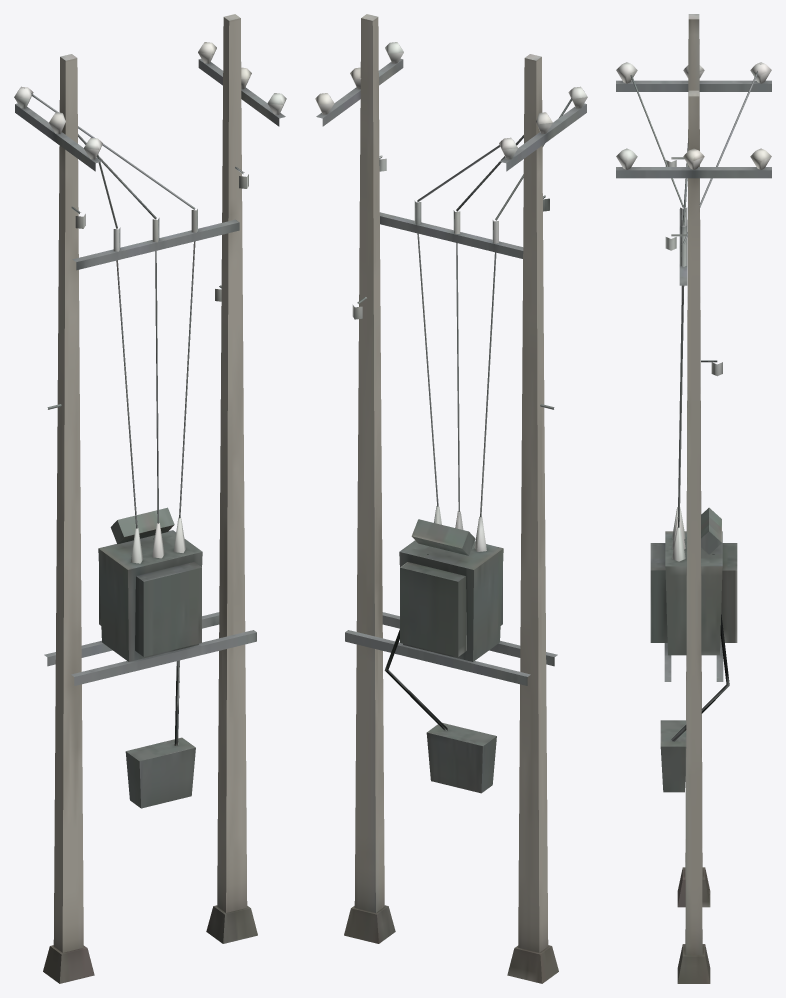
File: pole_transformer.glb
3 renders of one model, left to right at view 1: azimuth 30°, elevation 25°; view 2: azimuth 150°, elevation 25°; view 3: azimuth 270°, elevation 25°, orthographic. The views are drawn at different scales.
Visible parts, largest first — view 1: pole_transformer; view 2: pole_transformer; view 3: pole_transformer.
Boxes of the visible parts, bbox=[...] form: pole_transformer: bbox=[14, 14, 286, 983]; pole_transformer: bbox=[315, 14, 587, 983]; pole_transformer: bbox=[616, 14, 771, 983].
Bounding box in the file's own units: 10.52 × 45 × 7.2.
1 material, 1 textured.
